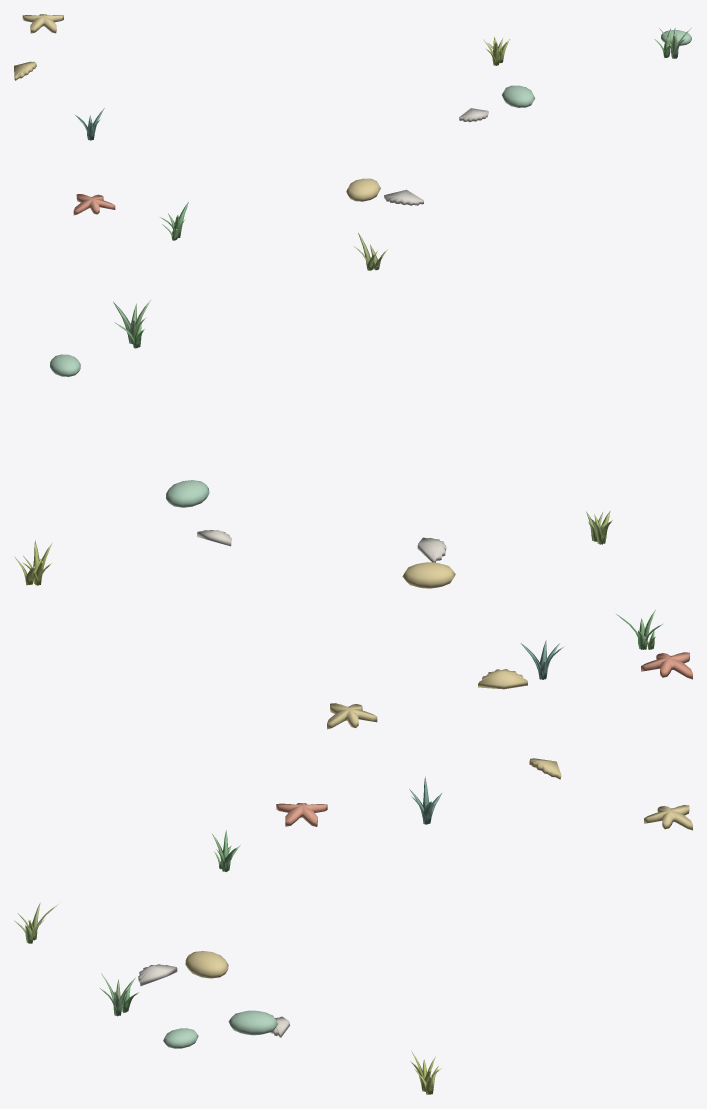
File: W2_FloraRing_8_7.fbx
3 renders of one model, top to bottom at view 1: azimuth 30°, elevation 25°; view 2: azimuth 150°, elevation 25°; view 3: azimuth 270°, elevation 25°, orthographic. The views are drawn at different scales.
Visible parts, largest first — view 1: W2_FloraRing_8_7; view 2: W2_FloraRing_8_7; view 3: W2_FloraRing_8_7.
Boxes of the visible parts, x1=… form: W2_FloraRing_8_7: x1=14, y1=14, x2=691, y2=270; W2_FloraRing_8_7: x1=14, y1=300, x2=692, y2=729; W2_FloraRing_8_7: x1=14, y1=758, x2=692, y2=1094.
Size of the model in its own units: 2.38 by 0.5431 by 2.05.
